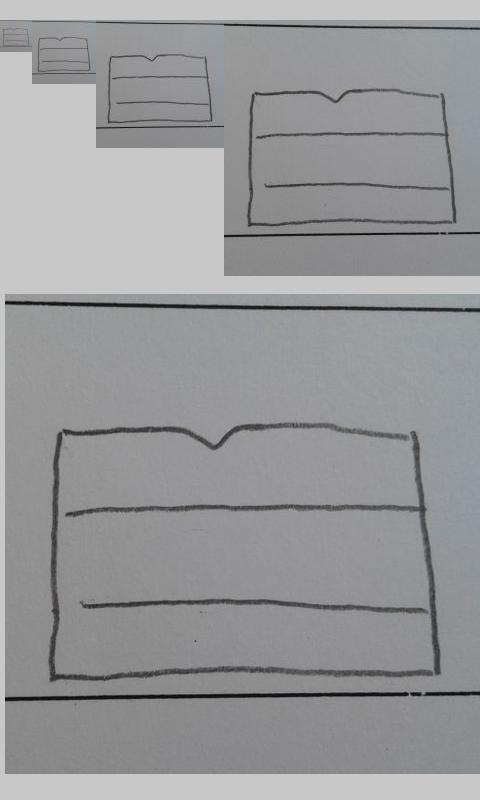list_view: (46, 419, 439, 685), (247, 88, 457, 227), (106, 53, 214, 124), (36, 36, 91, 72), (2, 27, 30, 47)
